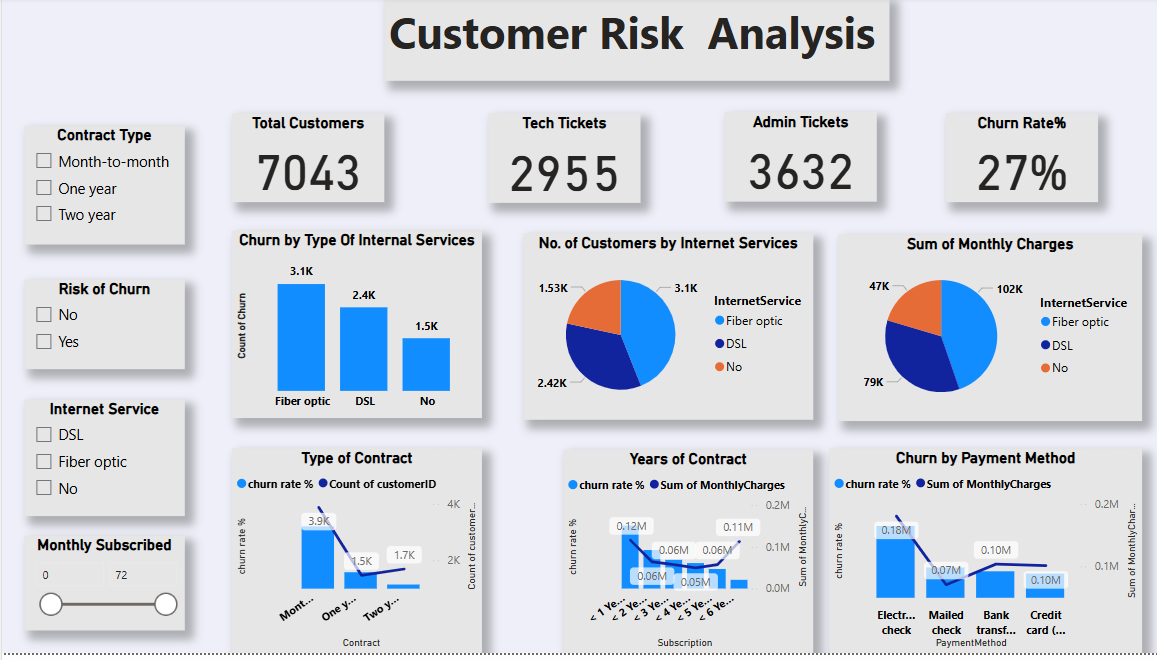

This screenshot's page, from the dashboard's own definition file:
{"tool":"powerbi","page":{"name":"Customer Risk Analysis","canvas":[1280,720],"ordinal":2},"visuals":[{"type":"textbox","box":[419.9,0,554.4,91.9],"z":1000},{"type":"slicer","title":"Risk of Churn","fields":{"Values":["01 Churn-Dataset.Churn"]},"box":[24.7,310.1,175.6,98.8],"z":2000},{"type":"slicer","title":"Internet Service","fields":{"Values":["01 Churn-Dataset.InternetService"]},"box":[24.7,441.9,175.6,127.6],"z":3000},{"type":"slicer","title":"Monthly Subscribed","fields":{"Values":["01 Churn-Dataset.tenure"]},"box":[24.7,591.4,175.6,104.3],"z":4000},{"type":"slicer","title":"Contract Type","fields":{"Values":["01 Churn-Dataset.Contract"]},"box":[24.7,141.3,175.6,130.4],"z":5000},{"type":"card","title":"Total Churn","fields":{"Values":["CountNonNull(01 Churn-Dataset.Churn)"]},"box":[1045.6,129,167.4,97.4],"z":6000},{"type":"card","title":"Churn Rate%","fields":{"Values":["01 Churn-Dataset.churn rate %"]},"box":[853.5,129,167.4,97.4],"z":7000},{"type":"gauge","title":"Churn","fields":{"Y":["CountNonNull(01 Churn-Dataset.customerID)"]},"box":[655.9,129,166,97.4],"z":8000},{"type":"card","title":"Admin Tickets","fields":{"Values":["Sum(01 Churn-Dataset.numAdminTickets)"]},"box":[443.2,129,167.4,98.8],"z":9000},{"type":"card","title":"Tech Tickets","fields":{"Values":["Sum(01 Churn-Dataset.numTechTickets)"]},"box":[252.5,129,167.4,98.8],"z":10000},{"type":"clusteredColumnChart","title":"Churn by Type Of Internal Services","fields":{"Category":["01 Churn-Dataset.InternetService"],"Y":["CountNonNull(01 Churn-Dataset.Churn)"]},"box":[252.5,256.6,274.4,205.8],"z":11000},{"type":"pieChart","title":"No. of Customers by Internet Services","fields":{"Category":["01 Churn-Dataset.InternetService"],"Y":["CountNonNull(01 Churn-Dataset.customerID)"]},"box":[617.5,258,274.4,204.5],"z":12000},{"type":"pieChart","title":"Sum of Monthly Charges","fields":{"Y":["Sum(01 Churn-Dataset.tenure)"],"Category":["01 Churn-Dataset.InternetService"]},"box":[960.6,258,274.4,204.5],"z":13000},{"type":"lineStackedColumnComboChart","title":"Type of Contract","fields":{"Y":["01 Churn-Dataset.churn rate %"],"Category":["01 Churn-Dataset.Contract"],"Y2":["CountNonNull(01 Churn-Dataset.customerID)"]},"box":[252.5,495.4,274.4,225],"z":14000},{"type":"lineStackedColumnComboChart","title":"Years of Contract","fields":{"Category":["01 Churn-Dataset.Subscription"],"Y":["01 Churn-Dataset.churn rate %"],"Y2":["Sum(01 Churn-Dataset.MonthlyCharges)"]},"box":[616.1,496.7,274.4,223.7],"z":15000},{"type":"lineStackedColumnComboChart","title":"Churn by Payment Method","fields":{"Category":["01 Churn-Dataset.PaymentMethod"],"Y":["01 Churn-Dataset.churn rate %"],"Y2":["Sum(01 Churn-Dataset.MonthlyCharges)"]},"box":[960.6,495.4,274.4,225],"z":16000}]}

Visuals, with their boxes in screenshot pixels (x1, y1, x2, y2), scaled from the page's 1280x720 canvas onto the 1157x660 screenshot:
textbox: box=[380, 0, 881, 84]
"Risk of Churn" slicer: box=[22, 284, 181, 375]
"Internet Service" slicer: box=[22, 405, 181, 522]
"Monthly Subscribed" slicer: box=[22, 542, 181, 638]
"Contract Type" slicer: box=[22, 130, 181, 249]
"Total Churn" card: box=[945, 118, 1096, 208]
"Churn Rate%" card: box=[771, 118, 923, 208]
"Churn" gauge: box=[593, 118, 743, 208]
"Admin Tickets" card: box=[401, 118, 552, 209]
"Tech Tickets" card: box=[228, 118, 380, 209]
"Churn by Type Of Internal Services" clusteredColumnChart: box=[228, 235, 476, 424]
"No. of Customers by Internet Services" pieChart: box=[558, 236, 806, 424]
"Sum of Monthly Charges" pieChart: box=[868, 236, 1116, 424]
"Type of Contract" lineStackedColumnComboChart: box=[228, 454, 476, 659]
"Years of Contract" lineStackedColumnComboChart: box=[557, 455, 805, 659]
"Churn by Payment Method" lineStackedColumnComboChart: box=[868, 454, 1116, 659]
